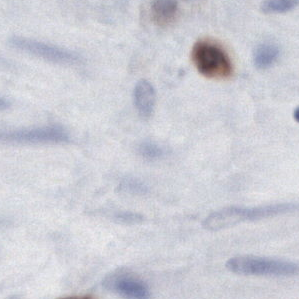Lymphocyte: (192, 38, 234, 76)
